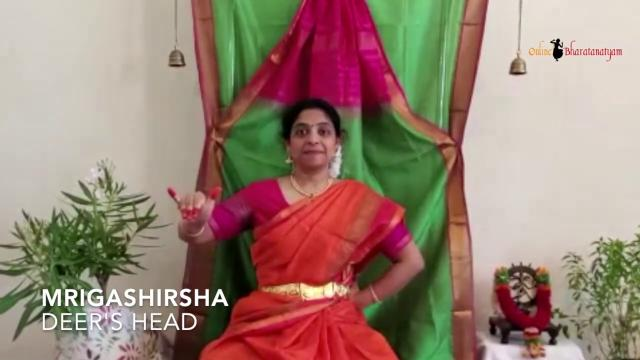mrighasheesh: (148, 160, 228, 250)
